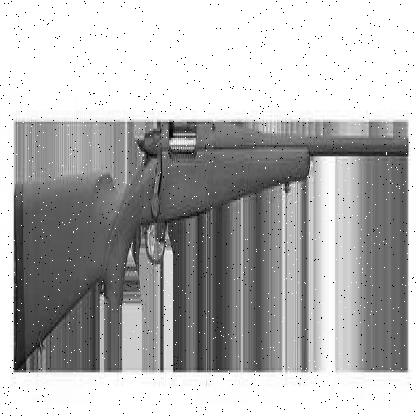rifle: (7, 108, 410, 375)
